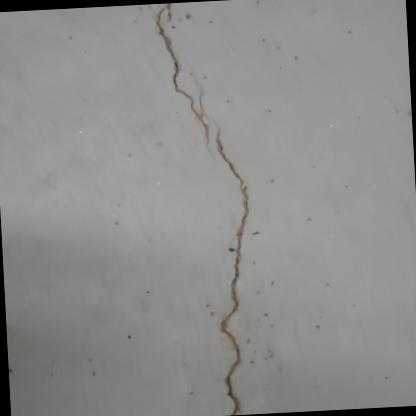crack: (215, 128, 249, 415), (156, 2, 208, 144)
